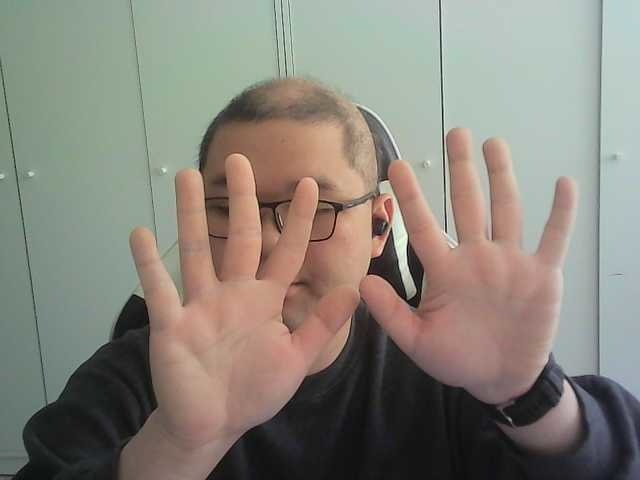Ten: (129, 127, 580, 429)
